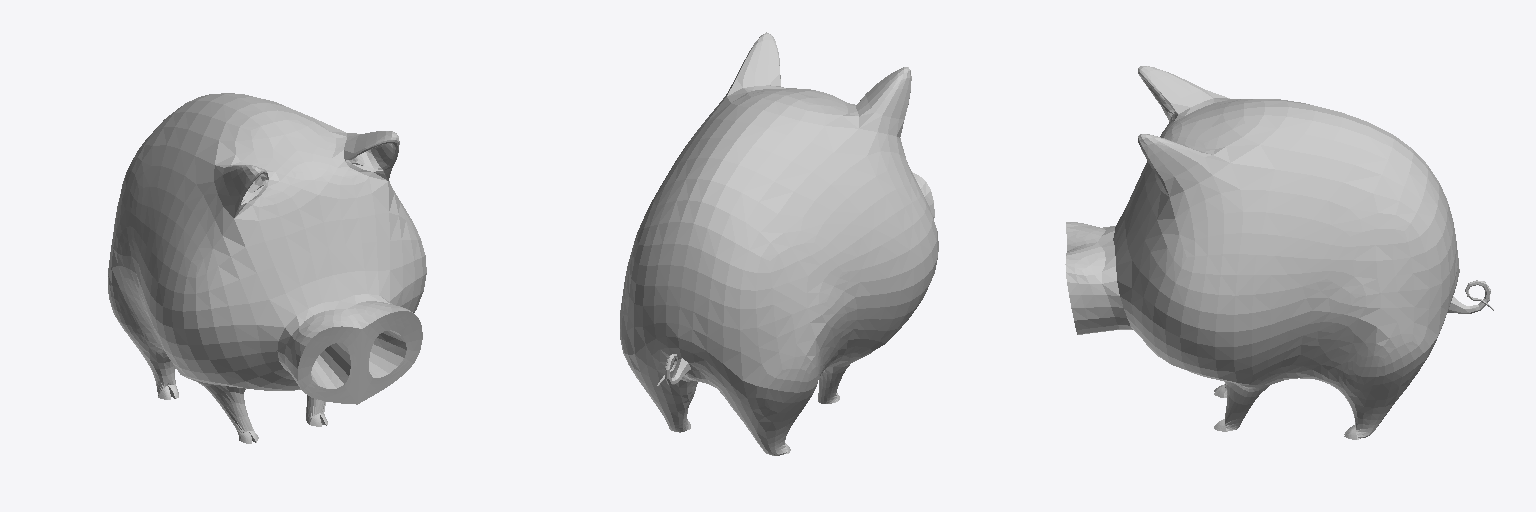
The model's file is porgus.obj.
3 renders of one model, left to right at view 1: azimuth 30°, elevation 25°; view 2: azimuth 150°, elevation 25°; view 3: azimuth 270°, elevation 25°, orthographic.
Visible parts, largest first — view 1: Cube; view 2: Cube; view 3: Cube.
Boxes of the visible parts, <box> form: Cube: <box>108,93,426,443</box>; Cube: <box>620,32,938,455</box>; Cube: <box>1065,66,1493,439</box>.
Size of the model in its own units: 1.47 by 1.75 by 2.19.